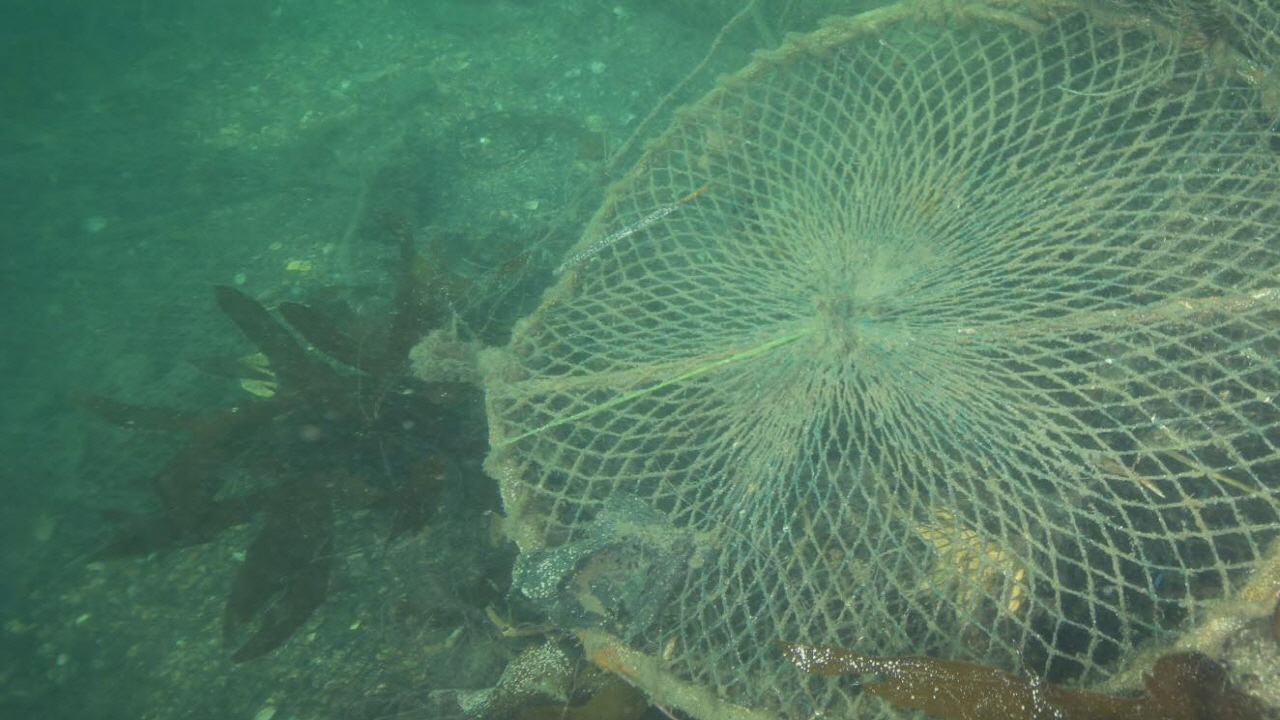circular fish trap: (483, 0, 1280, 720)
